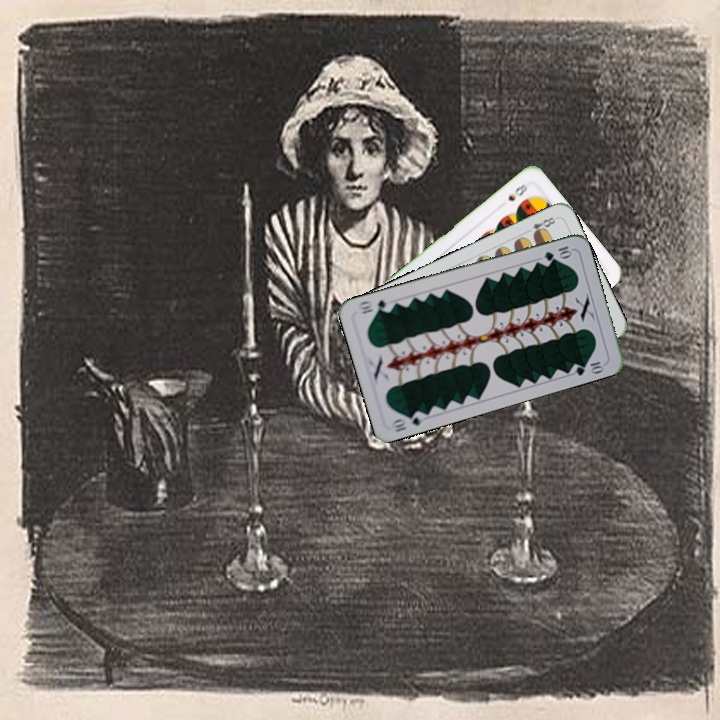E8: (521, 213, 560, 239)
G10: (387, 407, 428, 434), (540, 242, 574, 263)
S8: (504, 180, 531, 204)
